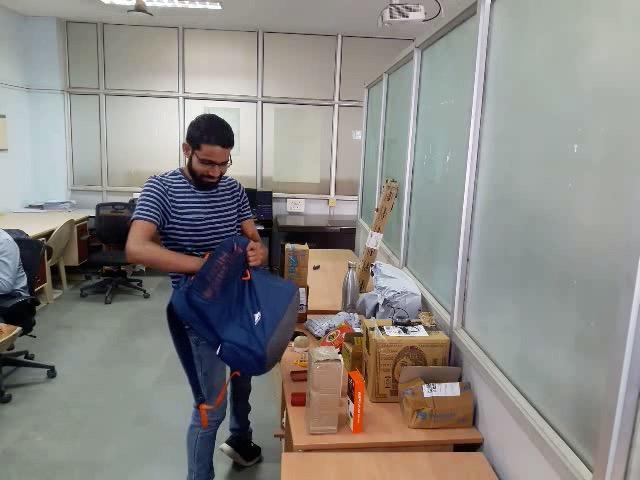shoplifting: (156, 224, 308, 391)
